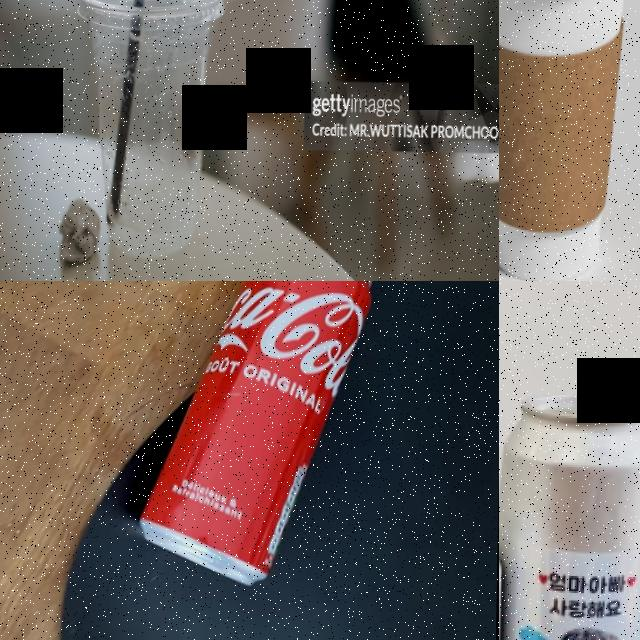can: (133, 281, 377, 590), (499, 389, 640, 640)
cup: (76, 0, 232, 259), (499, 0, 639, 277)
